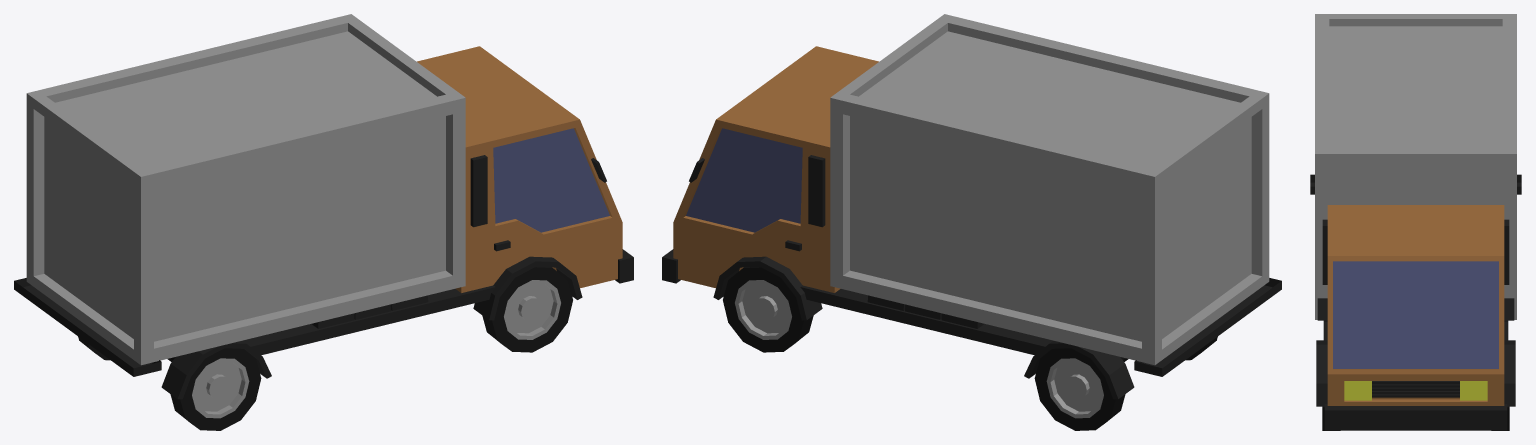
The model's file is low_poly_truck_smooth_box_v1.glb.
3 views of the same model, side by side, from view 1: azimuth 30°, elevation 25°; view 2: azimuth 150°, elevation 25°; view 3: azimuth 270°, elevation 25° (orthographic). The views are drawn at different scales.
Visible parts, largest first — view 1: Cube.002_body_0, Cube.002_cabin_0, Cube.002_black_0, Cube.002_glass_0, Cube.002_wheel_0; view 2: Cube.002_body_0, Cube.002_cabin_0, Cube.002_black_0, Cube.002_glass_0, Cube.002_wheel_0; view 3: Cube.002_body_0, Cube.002_glass_0, Cube.002_cabin_0, Cube.002_black_0, Cube.002_haedlights_0.
Part boxes in pixels (x1,y1,x2,y2): Cube.002_body_0: [26, 14, 560, 418]; Cube.002_cabin_0: [417, 46, 622, 292]; Cube.002_black_0: [14, 155, 633, 399]; Cube.002_glass_0: [493, 128, 609, 232]; Cube.002_wheel_0: [78, 267, 572, 430]; Cube.002_body_0: [735, 14, 1269, 418]; Cube.002_cabin_0: [673, 46, 878, 292]; Cube.002_black_0: [662, 155, 1281, 399]; Cube.002_glass_0: [686, 128, 802, 232]; Cube.002_wheel_0: [723, 267, 1217, 430]; Cube.002_body_0: [1315, 14, 1516, 319]; Cube.002_glass_0: [1333, 261, 1498, 368]; Cube.002_cabin_0: [1327, 205, 1504, 405]; Cube.002_black_0: [1310, 174, 1521, 430]; Cube.002_haedlights_0: [1344, 381, 1487, 400].
Bounding box in the file's own units: 630 × 329 × 257.
